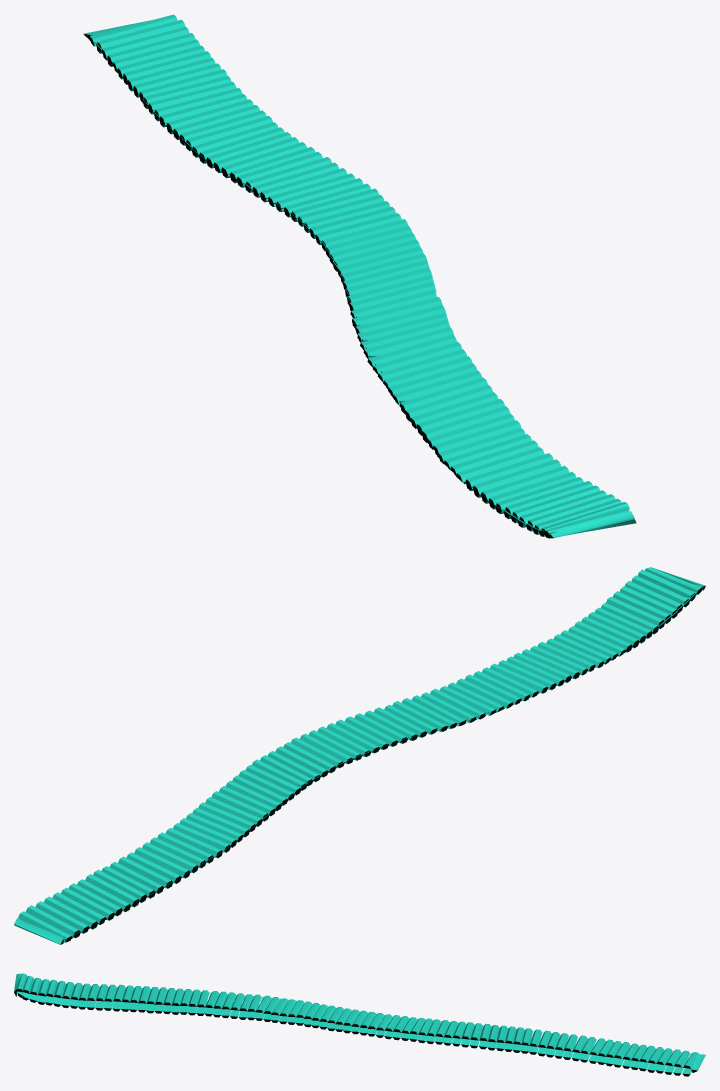
3 renders of one model, top to bottom at view 1: azimuth 30°, elevation 25°; view 2: azimuth 150°, elevation 25°; view 3: azimuth 270°, elevation 25°, orthographic. The views are drawn at different scales.
Bounding box in the file's own units: 0.0808 × 0.0184 × 0.3264.
